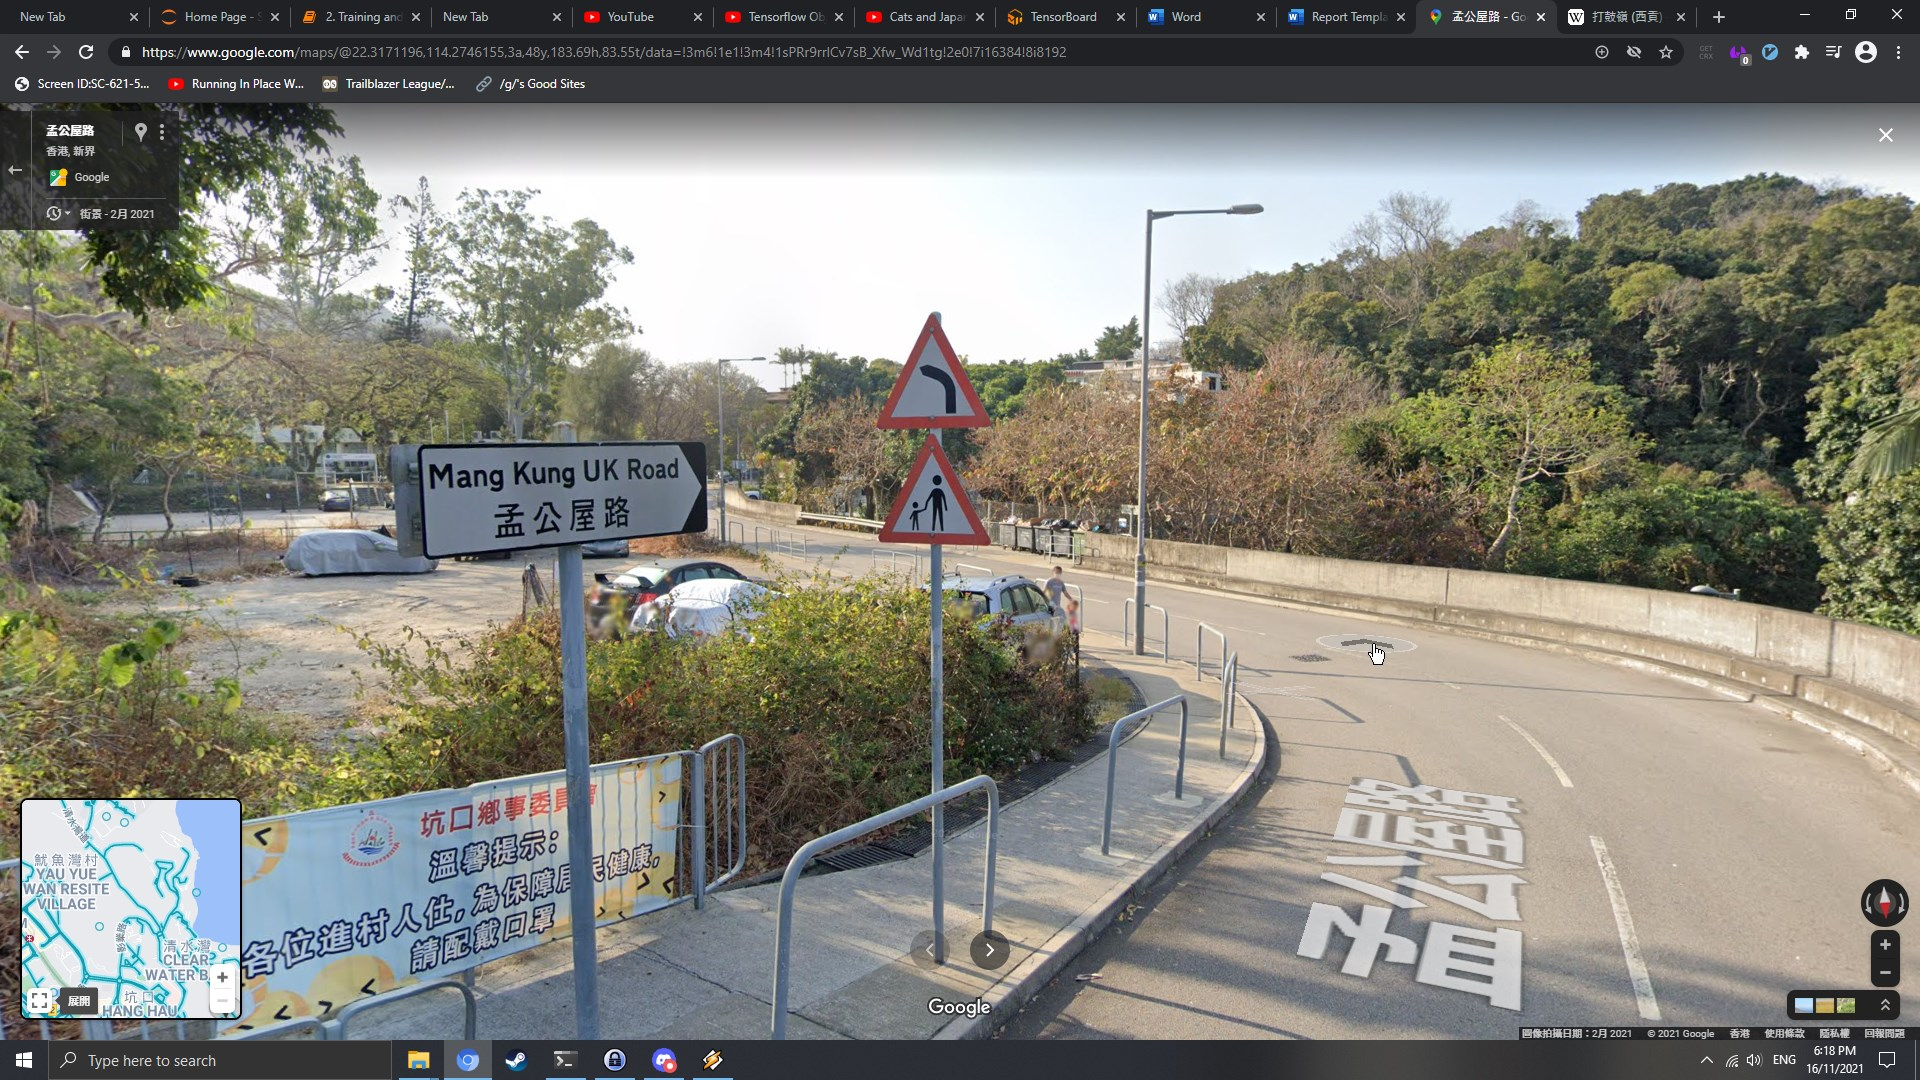BendToLeft: (876, 313, 994, 433)
